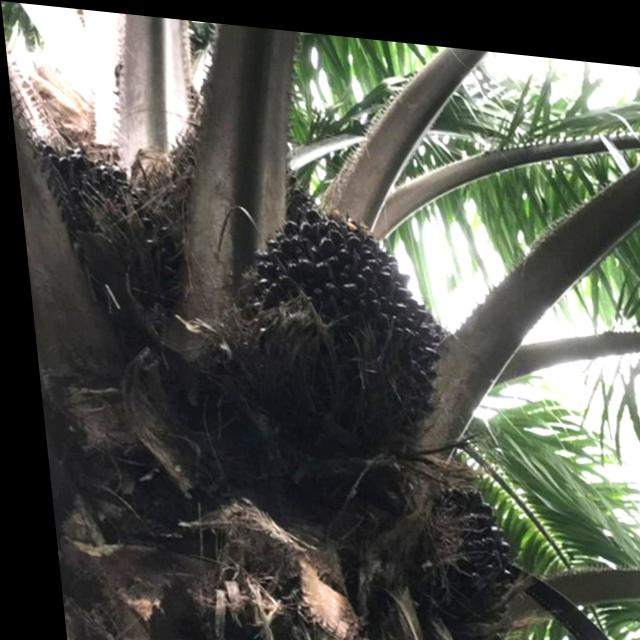ripe: (211, 189, 446, 440), (30, 127, 187, 311), (375, 463, 507, 640)
